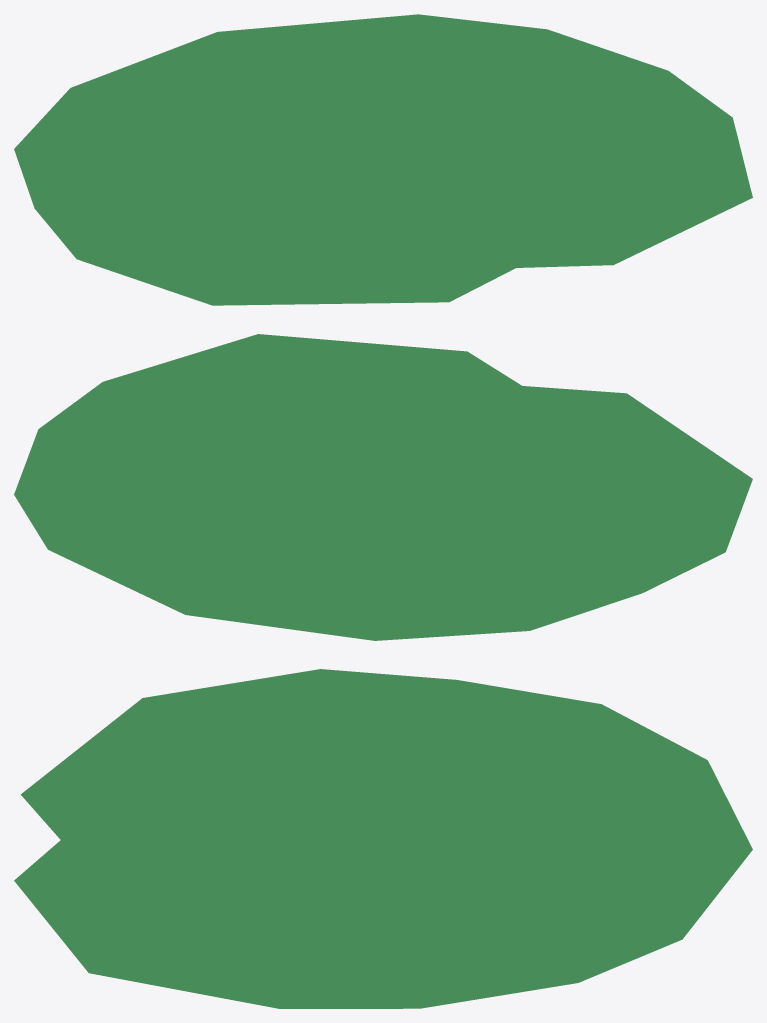
File: plant_nymphaea_small_E.fbx
The picture shows the model from 3 angles, top to bottom: view 1: azimuth 30°, elevation 25°; view 2: azimuth 150°, elevation 25°; view 3: azimuth 270°, elevation 25°; orthographic projection. The views are drawn at different scales.
Visible parts, largest first — view 1: plant_nymphaea_small_E; view 2: plant_nymphaea_small_E; view 3: plant_nymphaea_small_E.
Part boxes in pixels (left/top/right/bottom): plant_nymphaea_small_E: left=14, top=14, right=752, bottom=305; plant_nymphaea_small_E: left=14, top=334, right=752, bottom=640; plant_nymphaea_small_E: left=14, top=669, right=752, bottom=1008.
Bounding box in the file's own units: 2.9 × 1.91e-06 × 2.67.
